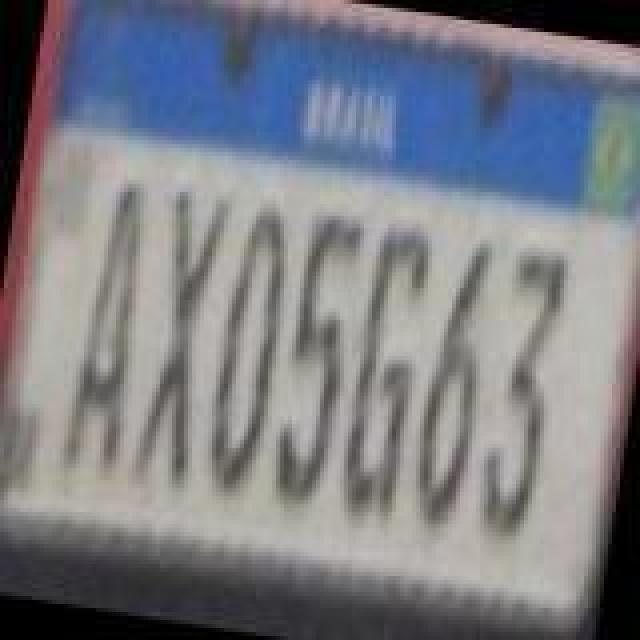3: (468, 240, 572, 544)
5: (268, 204, 372, 508)
6: (404, 224, 508, 528)
A: (60, 170, 164, 470)
G: (328, 216, 440, 520)
O: (192, 196, 304, 500)
X: (128, 182, 232, 490)
